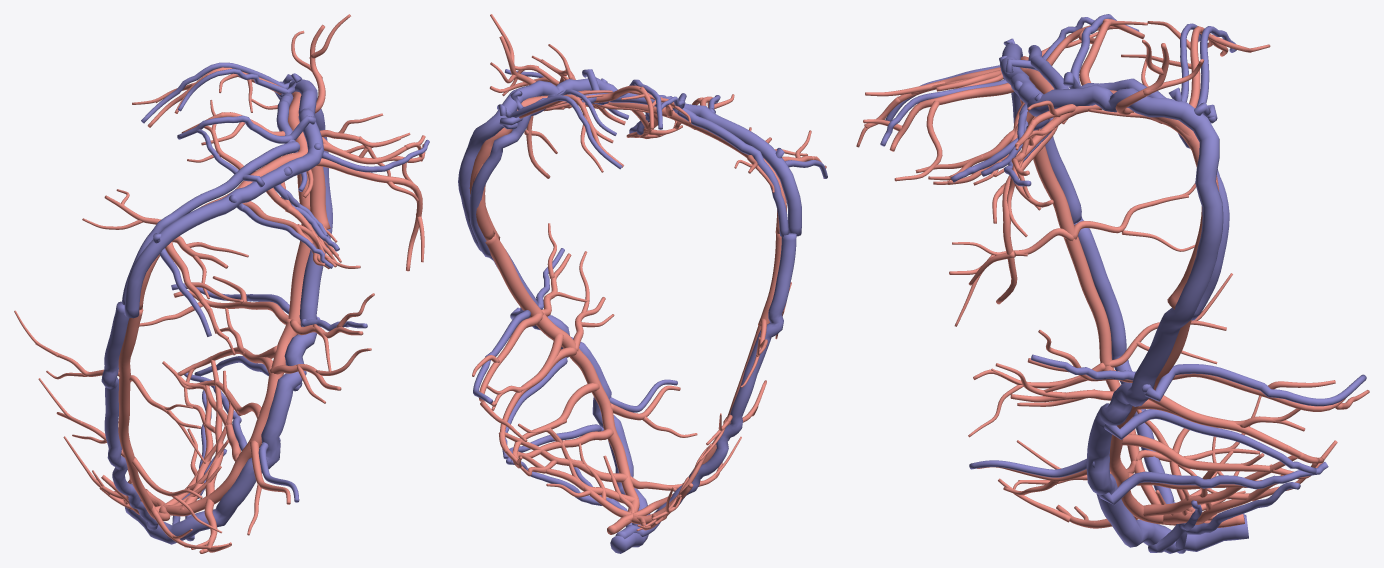
The model's file is vessels_55.glb.
The picture shows the model from 3 angles, left to right: view 1: azimuth 30°, elevation 25°; view 2: azimuth 150°, elevation 25°; view 3: azimuth 270°, elevation 25°; orthographic projection. The views are drawn at different scales.
Parts seen in each view (by area): view 1: Renderer Node; view 2: Renderer Node; view 3: Renderer Node.
Part boxes in pixels (x1,y1,x2,y2): Renderer Node: (14,14,429,553); Renderer Node: (458,14,827,553); Renderer Node: (856,14,1369,553).
Bounding box in the file's own units: 87.44 × 120 × 90.79.
